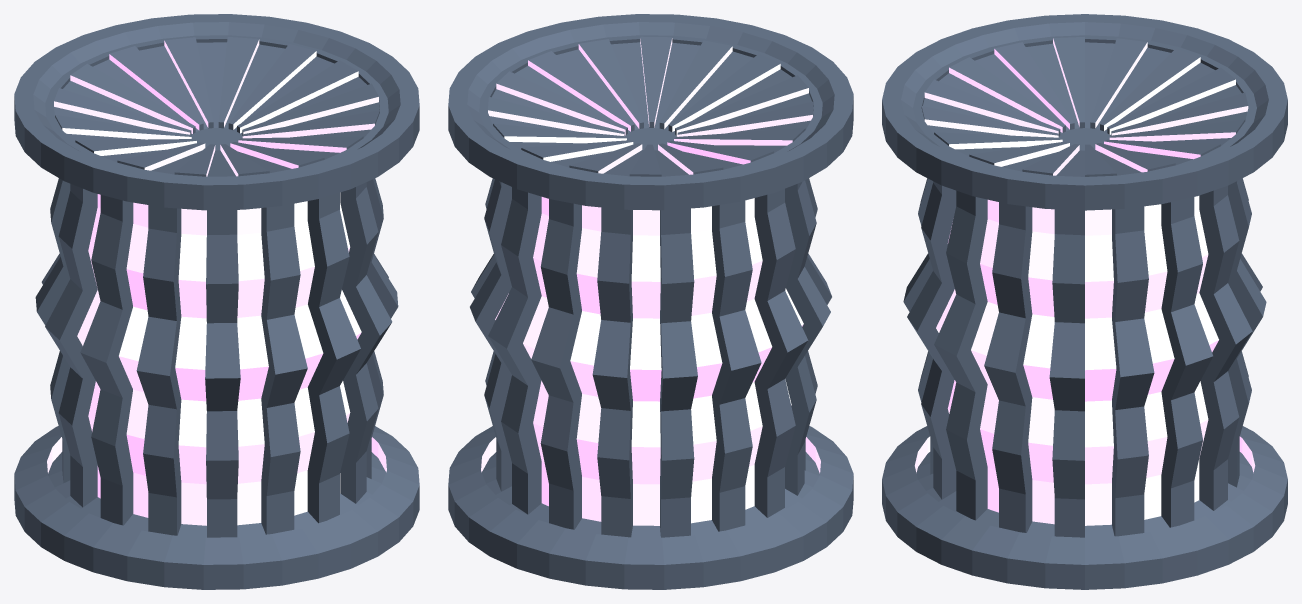
Rendered from barrel1.fbx.
3 renders of one model, left to right at view 1: azimuth 30°, elevation 25°; view 2: azimuth 150°, elevation 25°; view 3: azimuth 270°, elevation 25°, orthographic.
Parts seen in each view (by area): view 1: Цилиндр; view 2: Цилиндр; view 3: Цилиндр.
Boxes of the visible parts, x1,y1,x2,y2 form: Цилиндр: (14,14,419,589); Цилиндр: (448,14,853,589); Цилиндр: (882,14,1287,589).
Bounding box in the file's own units: 212 × 233 × 212.
